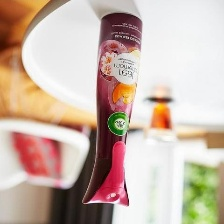aerosol_cans: (74, 7, 147, 215)
